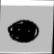correct: (6, 18, 41, 44)
